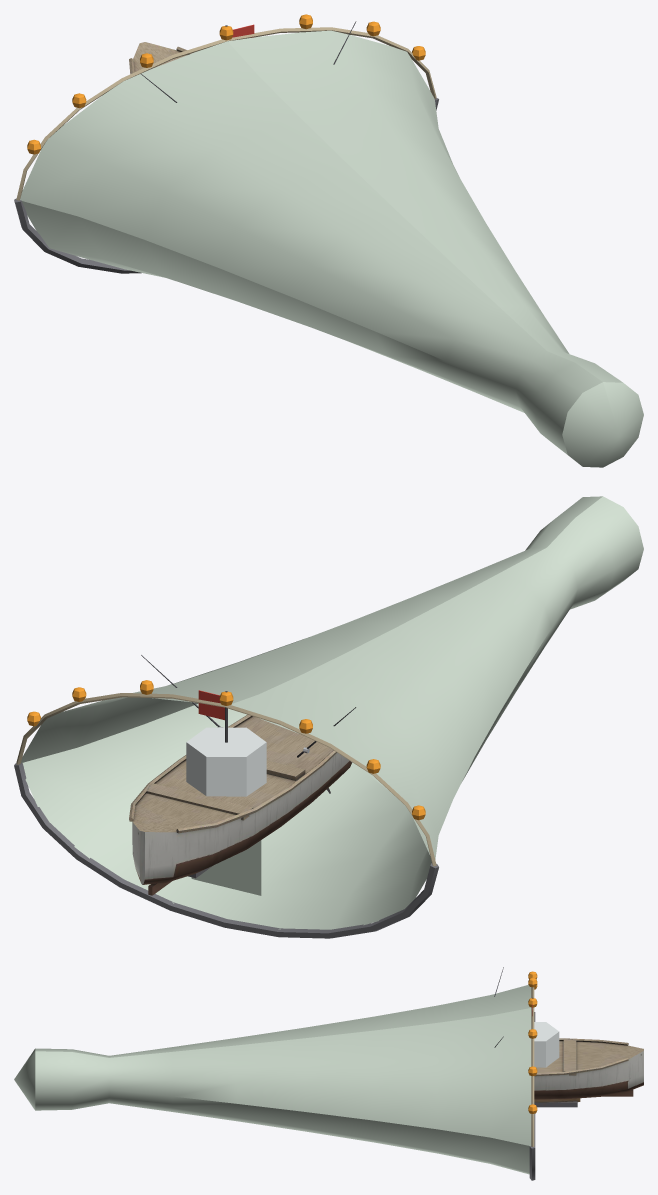
The model's file is fishing_gear.glb.
3 renders of one model, top to bottom at view 1: azimuth 30°, elevation 25°; view 2: azimuth 150°, elevation 25°; view 3: azimuth 270°, elevation 25°, orthographic. The views are drawn at different scales.
Parts seen in each view (by area): view 1: Trawl, Skiff; view 2: Trawl, Skiff, Line, NetPanel, MarkerBuoy; view 3: Trawl, Skiff, Line, OtterDoor.
Boxes of the visible parts, left/top/right/bottom form: Trawl: left=14, top=14, right=643, bottom=467; Skiff: left=129, top=21, right=356, bottom=102; Trawl: left=14, top=496, right=643, bottom=938; Skiff: left=129, top=655, right=356, bottom=895; Line: left=186, top=727, right=266, bottom=796; NetPanel: left=191, top=840, right=261, bottom=895; MarkerBuoy: left=198, top=690, right=227, bottom=742; Trawl: left=14, top=971, right=537, bottom=1180; Skiff: left=494, top=967, right=643, bottom=1099; Line: left=534, top=1022, right=559, bottom=1067; OtterDoor: left=534, top=1098, right=580, bottom=1107.
Bounding box in the file's own units: 6.11 × 3.26 × 11.9.
Materials: 21 (16 with a texture image).
